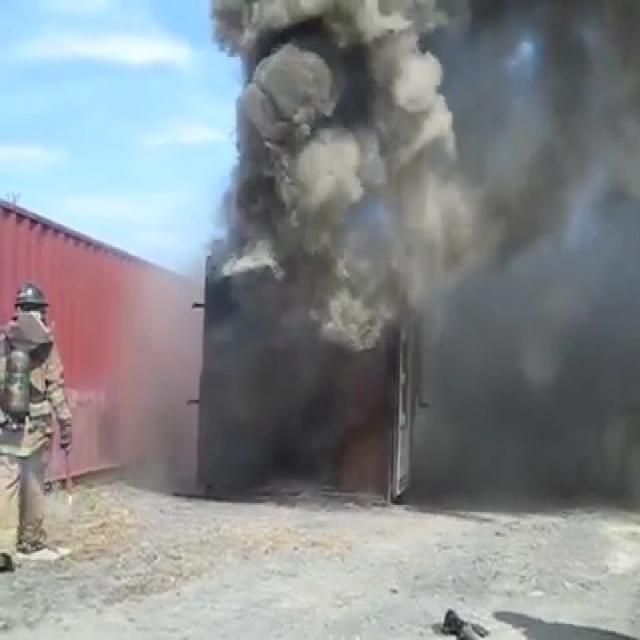Smoke: (214, 8, 452, 368)
